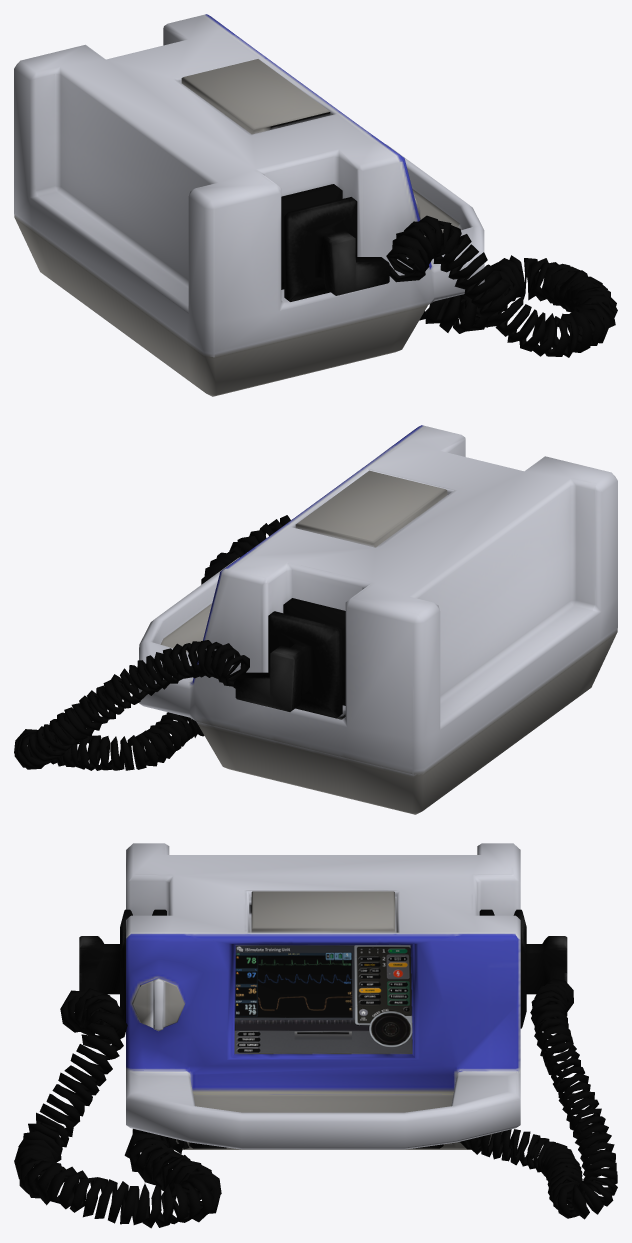
File: defibrillator-_low_poly.glb
3 views of the same model, one above another, from view 1: azimuth 30°, elevation 25°; view 2: azimuth 150°, elevation 25°; view 3: azimuth 270°, elevation 25° (orthographic). The views are drawn at different scales.
Parts seen in each view (by area): view 1: Plane_0, Circle_3, Plane.002_1; view 2: Plane_0, Circle.001_5, Plane.001_2, Circle_3; view 3: Plane_0, Circle_3, Circle.001_5, Plane.002_1, Plane.001_2.
Boxes of the visible parts, x1,y1,x2,y2 form: Plane_0: (14, 14, 484, 396); Circle_3: (386, 215, 617, 357); Plane.002_1: (281, 184, 391, 301); Plane_0: (138, 425, 617, 814); Circle.001_5: (14, 640, 249, 770); Plane.001_2: (233, 598, 345, 718); Circle_3: (201, 515, 290, 584); Plane_0: (126, 843, 520, 1149); Circle_3: (14, 988, 221, 1228); Circle.001_5: (459, 978, 617, 1219); Plane.002_1: (79, 909, 166, 1022); Plane.001_2: (479, 909, 567, 1028).
Bounding box in the file's own units: 6.34 × 3.28 × 8.45.
Materials: 6 (5 with a texture image).
